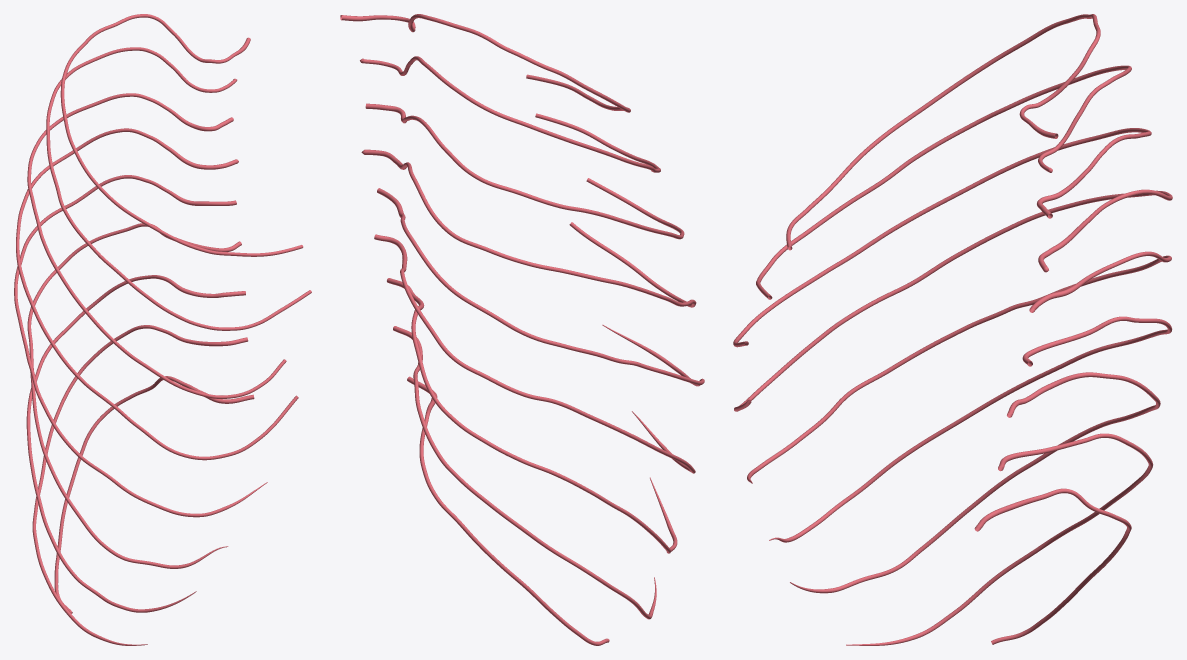
3 views of the same model, side by side, from view 1: azimuth 30°, elevation 25°; view 2: azimuth 150°, elevation 25°; view 3: azimuth 270°, elevation 25° (orthographic). The views are drawn at different scales.
Parts seen in each view (by area): view 1: ZA_8705df9f1af09c62; view 2: ZA_8705df9f1af09c62; view 3: ZA_8705df9f1af09c62.
Part boxes in pixels (bbox=[...]): ZA_8705df9f1af09c62: bbox=[14, 14, 311, 645]; ZA_8705df9f1af09c62: bbox=[340, 14, 704, 645]; ZA_8705df9f1af09c62: bbox=[733, 14, 1172, 645].
Size of the model in its own units: 0.1598 by 0.3336 by 0.1963.
